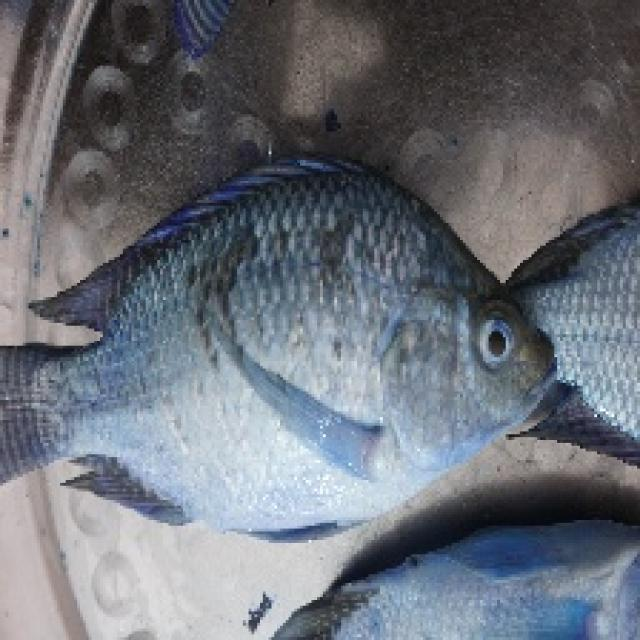Fresh: (5, 205, 567, 541)
